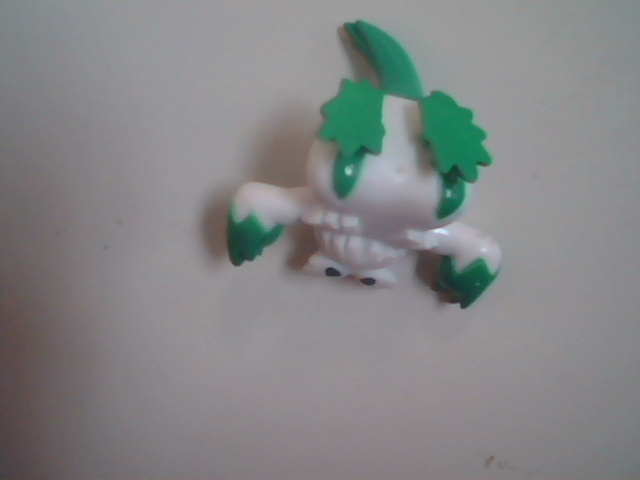abomasnow: (212, 24, 581, 362)
